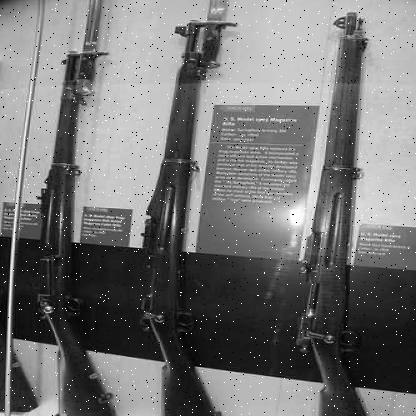rifle: (145, 0, 259, 415), (313, 0, 394, 415), (30, 44, 112, 415)
